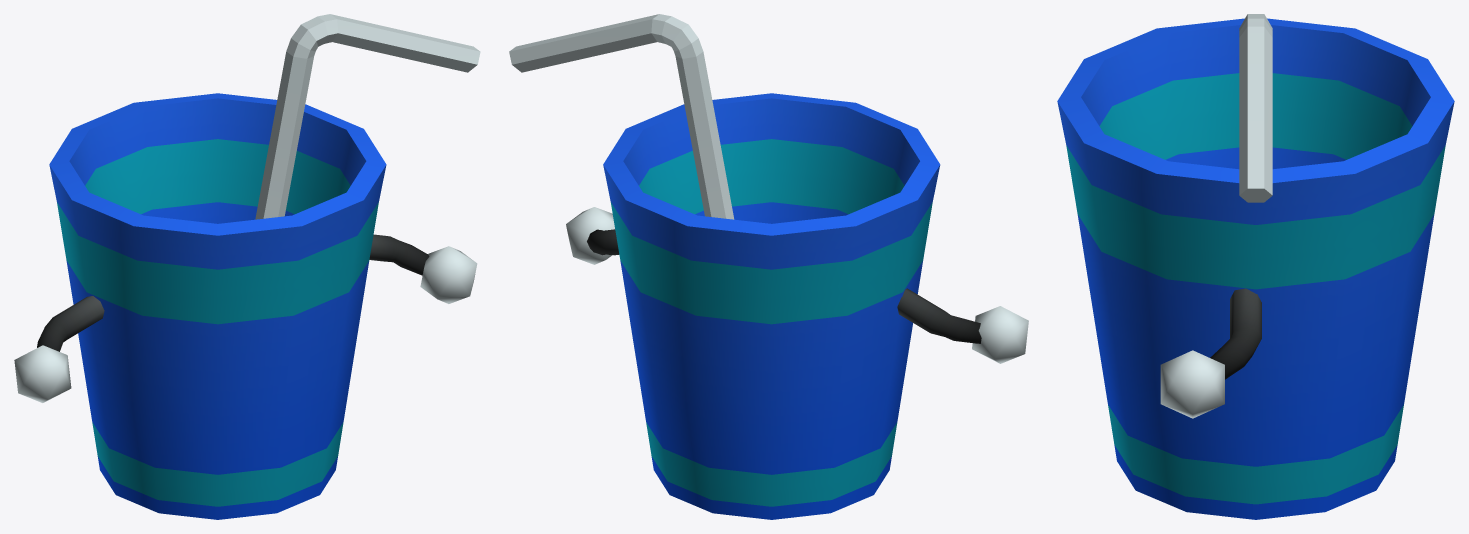
The model's file is vaso_papel_001.fbx.
The picture shows the model from 3 angles, left to right: view 1: azimuth 30°, elevation 25°; view 2: azimuth 150°, elevation 25°; view 3: azimuth 270°, elevation 25°; orthographic projection. The views are drawn at different scales.
Visible parts, largest first — view 1: vaso_papel.001; view 2: vaso_papel.001; view 3: vaso_papel.001.
Part boxes in pixels (x1,y1,x2,y2): vaso_papel.001: (14, 14, 480, 519); vaso_papel.001: (509, 14, 1028, 519); vaso_papel.001: (1057, 14, 1454, 519).
Bounding box in the file's own units: 75.49 × 63.25 × 45.38.
